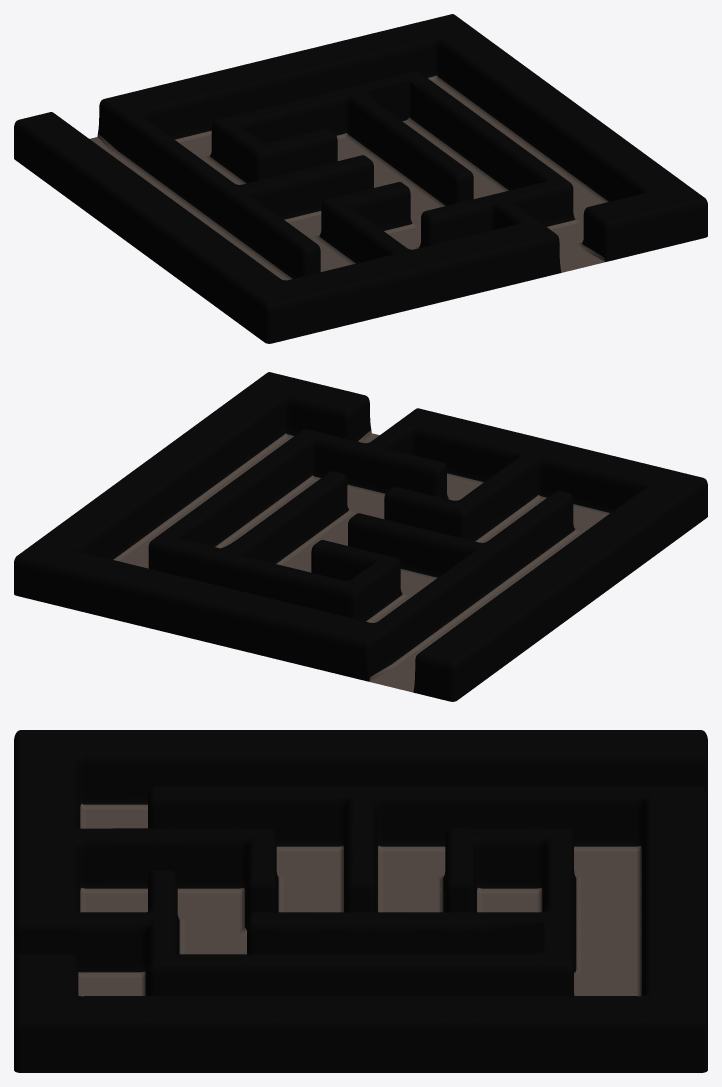
File: maze.obj
The picture shows the model from 3 angles, top to bottom: view 1: azimuth 30°, elevation 25°; view 2: azimuth 150°, elevation 25°; view 3: azimuth 270°, elevation 25°; orthographic projection. The views are drawn at different scales.
Parts seen in each view (by area): view 1: Plane_Plane.001; view 2: Plane_Plane.001; view 3: Plane_Plane.001.
Part boxes in pixels (x1,y1,x2,y2): Plane_Plane.001: (14,14,707,343); Plane_Plane.001: (14,372,707,701); Plane_Plane.001: (14,730,707,1072).
Bounding box in the file's own units: 10 × 0.8301 × 10.
1 material, 1 textured.
